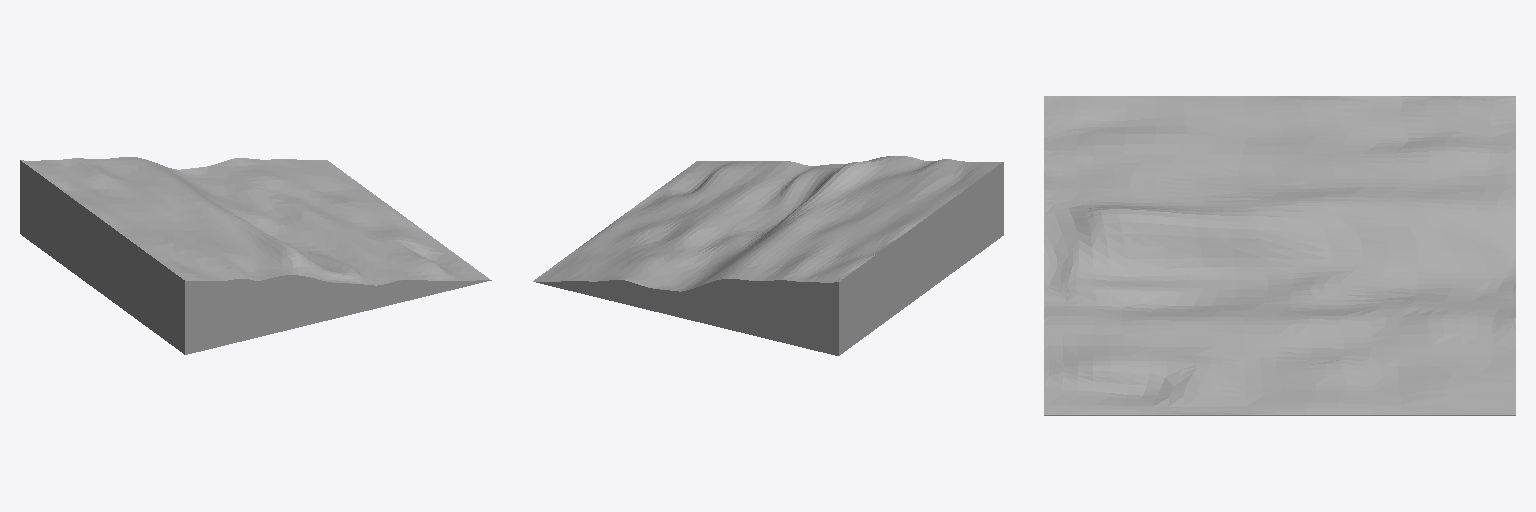
URDF robot description (santiye_sahasi):
<?xml version="1.0" encoding="utf-8"?>
<robot name="santiye_sahasi">
  <link name="dirt_link">
    <inertial>
      <origin xyz="-1.309 -0.027225 0.69035" rpy="0 0 0" />
      <mass value="4533.2" />
      <inertia ixx="19440" ixy="127.97" ixz="1668.8" iyy="14615" iyz="41.494" izz="32421" />
    </inertial>
    
    <visual>
      <origin xyz="0 0 0" rpy="1.5708 0 0" />
      <geometry>
        <mesh filename="package://dirt/meshes/dirt_link.STL" />
      </geometry>
      <material name="">
        <color rgba="0.69804 0.69804 0.69804 1" />
      </material>
    </visual>
    
    <collision>
      <origin xyz="0 0 0" rpy="1.5708 0 0" />
      <geometry>
        <mesh filename="package://dirt/meshes/dirt_link.STL" />
      </geometry>
    </collision>
  </link>

  <gazebo reference="dirt_link">
    <visual>
      <material>
        <ambient>0.3 0.225 0.15 1</ambient>
        <diffuse>0.66 0.48 0.3 1</diffuse>
        <specular>0.02 0.02 0.02 1</specular>
      </material>
    </visual>
  </gazebo>
  
  <gazebo reference="dirt_link"> <mu1>2.0</mu1>
    <mu2>2.0</mu2>
    
    <kp>1000000.0</kp>
    <kd>500.0</kd>
    
    <minDepth>0.005</minDepth>
    <maxVel>0.0</maxVel>
  </gazebo>

  <gazebo>
    <static>true</static>
  </gazebo>
</robot>

--- Facts derived from the render (not from the file) ---
The picture shows the robot from 3 angles, left to right: view 1: azimuth 30°, elevation 25°; view 2: azimuth 150°, elevation 25°; view 3: azimuth 270°, elevation 25°; orthographic projection.
Robot: santiye_sahasi — 1 links, 0 joints (none); root link dirt_link; default pose: all joints at 0.
Visible links, largest first — view 1: dirt_link; view 2: dirt_link; view 3: dirt_link.
Boxes of the visible links, <box> form: dirt_link: <box>20,157,491,354</box>; dirt_link: <box>533,156,1003,355</box>; dirt_link: <box>1044,96,1515,415</box>.
Size in the robot's own frame: 7.5 by 7 by 1.74 metres.
1 mesh visuals loaded from 1 distinct referenced files (1 binary STL).
